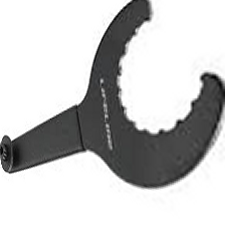Wrench: (1, 2, 224, 196)
